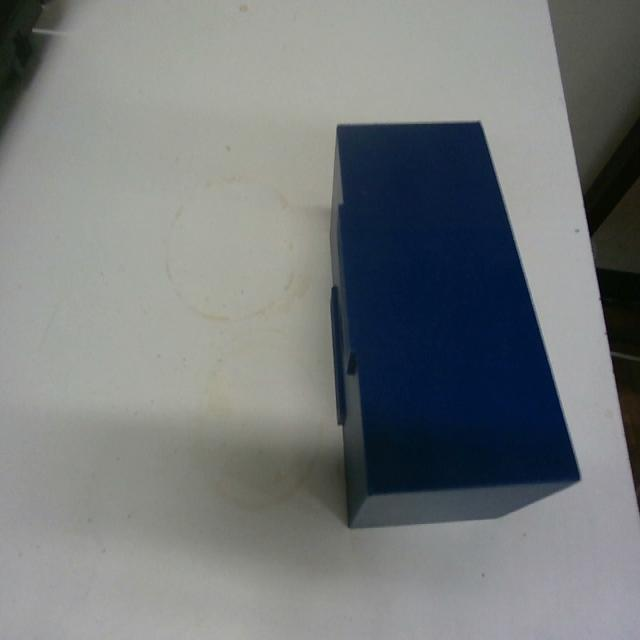Blue Cuboid: (326, 116, 581, 529)
